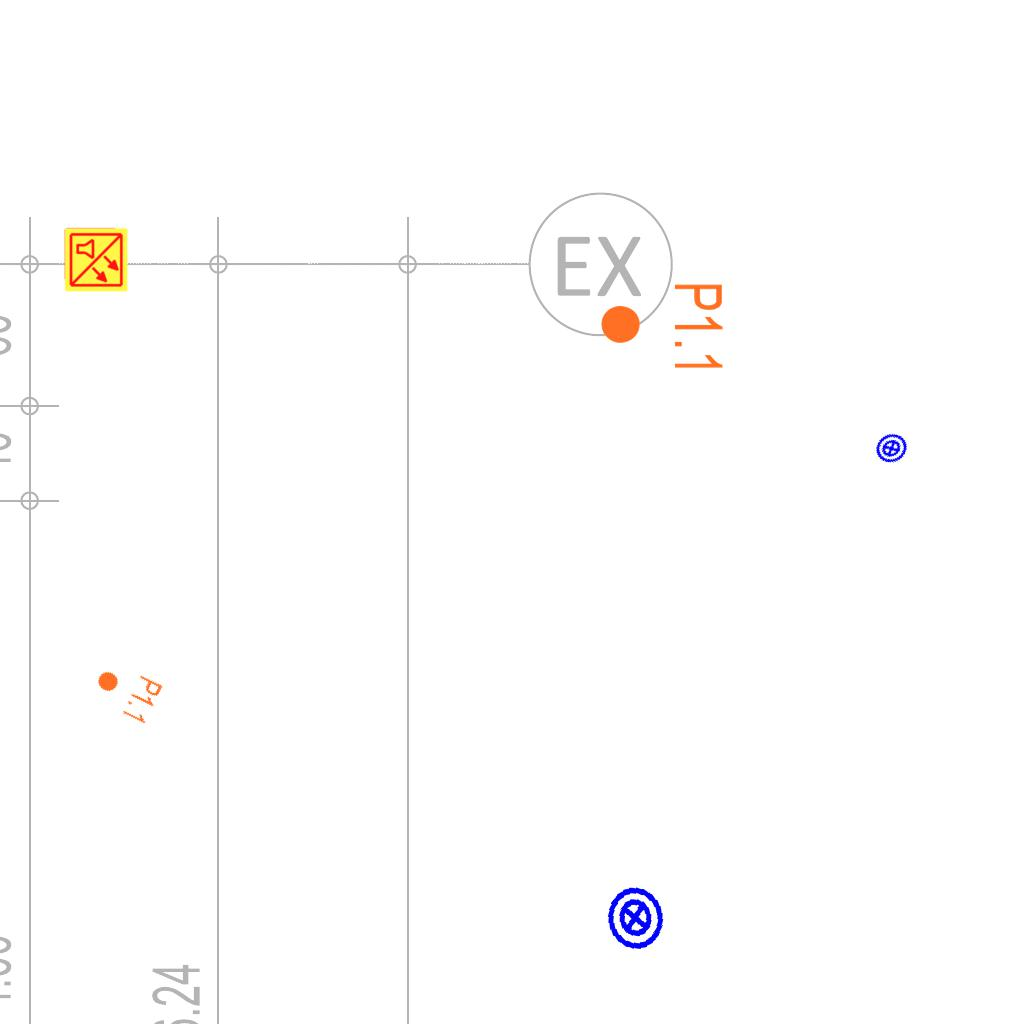Downlight_LED_Einbauleuchten_Flur: (598, 281, 726, 374), (87, 657, 165, 727)
OKW_Multisensormelder_(Kombination_optischer_Rauch-Kahlenmonoxid_Waerme-Melder): (63, 227, 129, 293)
Taster_beleuchtet: (597, 880, 673, 956), (869, 426, 914, 471)
